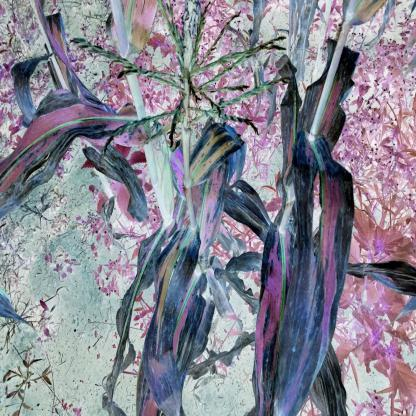corn leaf blight: (271, 121, 356, 416), (0, 87, 143, 213), (96, 216, 172, 416), (137, 229, 206, 416), (190, 121, 245, 251)
